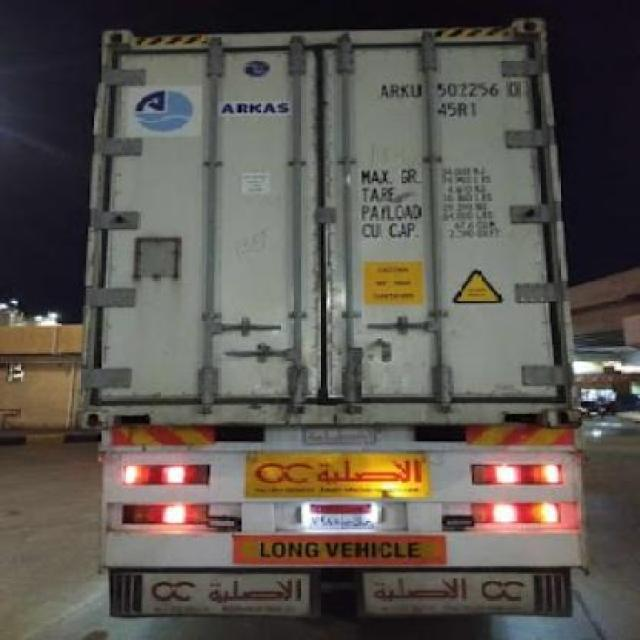ISO: (436, 99, 478, 118)
container_number: (386, 79, 526, 99)
